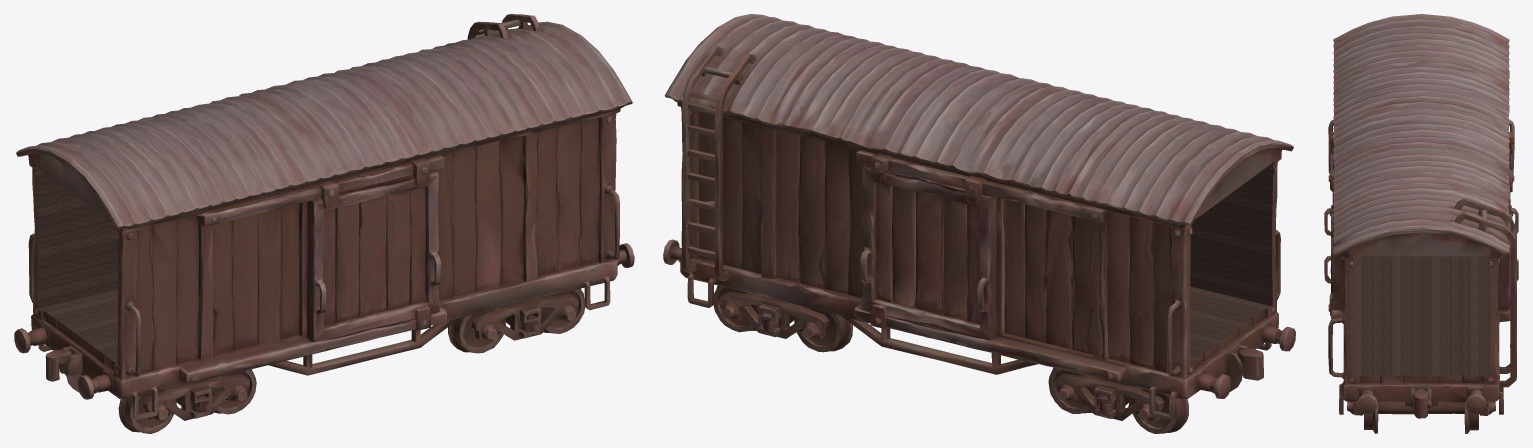
Rendered from train_freight_b.glb.
3 renders of one model, left to right at view 1: azimuth 30°, elevation 25°; view 2: azimuth 150°, elevation 25°; view 3: azimuth 270°, elevation 25°, orthographic. The views are drawn at different scales.
Visible parts, largest first — view 1: body, door_front; view 2: body, door_back; view 3: body.
Part boxes in pixels (x1,y1,x2,y2): body: (14,14,634,433); door_front: (323,175,430,329); body: (663,14,1295,433); door_back: (871,170,981,326); body: (1324,14,1518,433).
Size of the model in its own units: 7 by 3.28 by 2.5.
3 materials, 3 textured.
